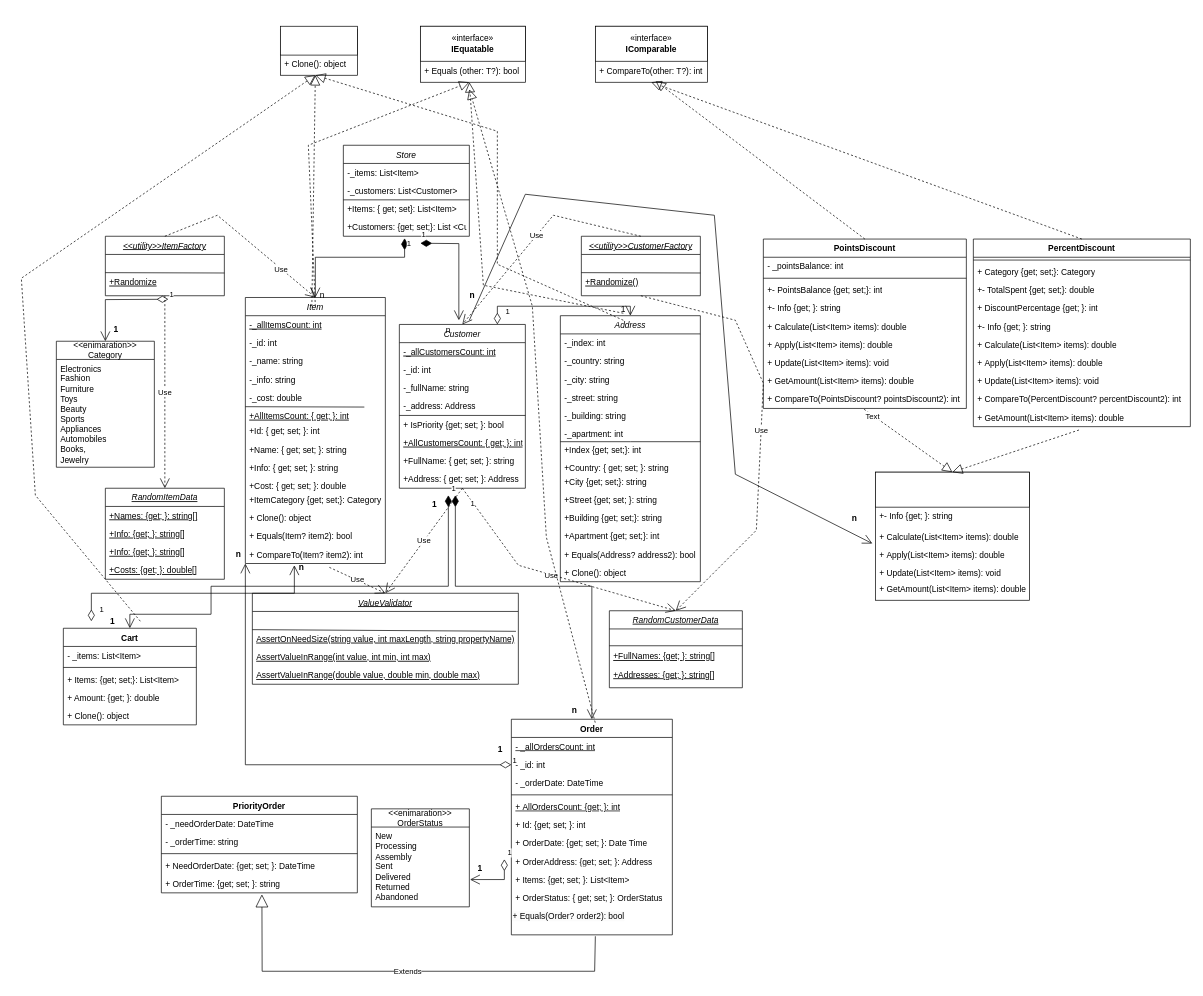
This 1203x996 diagram has some shape labels left out. The shapes that lost their labels are listed below. From the top down, each one's centre as x and y in pixels, then its label:
pixel 318 40: «interface» ICloneable
pixel 952 489: «interface» IDiscount
